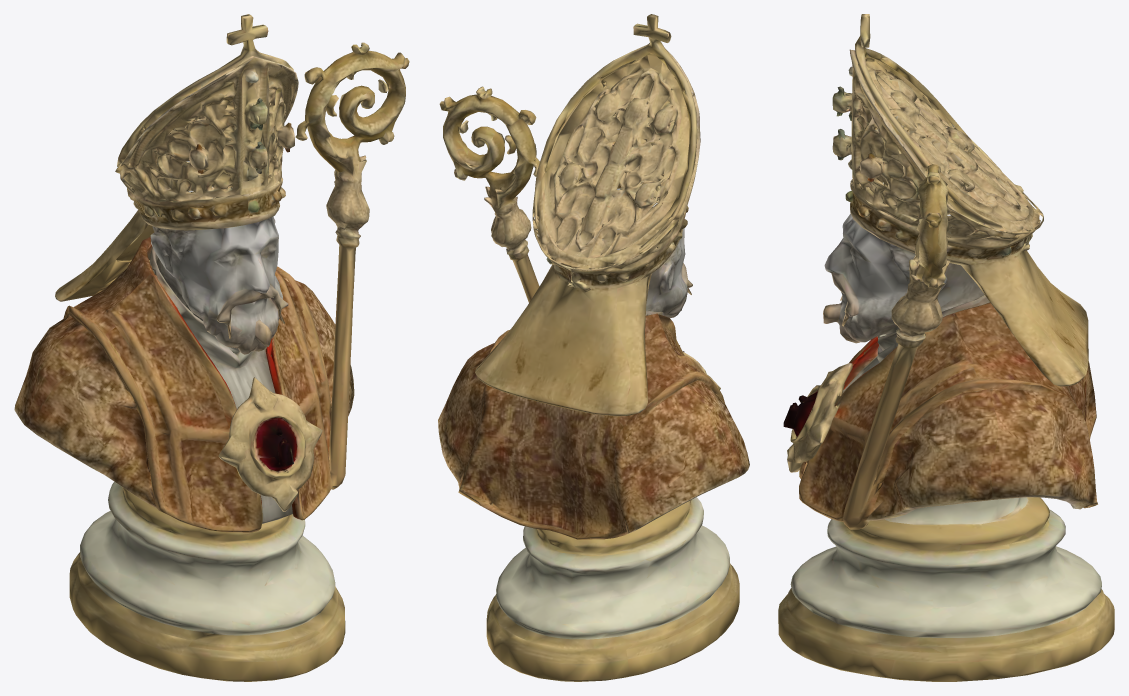
File: bishop-classic-vescovo-50k.glb
3 views of the same model, side by side, from view 1: azimuth 30°, elevation 25°; view 2: azimuth 150°, elevation 25°; view 3: azimuth 270°, elevation 25° (orthographic). The views are drawn at different scales.
Visible parts, largest first — view 1: world; view 2: world; view 3: world.
Boxes of the visible parts, <box> form: world: <box>14,14,409,681</box>; world: <box>438,14,749,681</box>; world: <box>778,14,1114,681</box>.
Bounding box in the file's own units: 0.8561 × 1.45 × 0.7195.
Materials: 1 (1 with a texture image).
